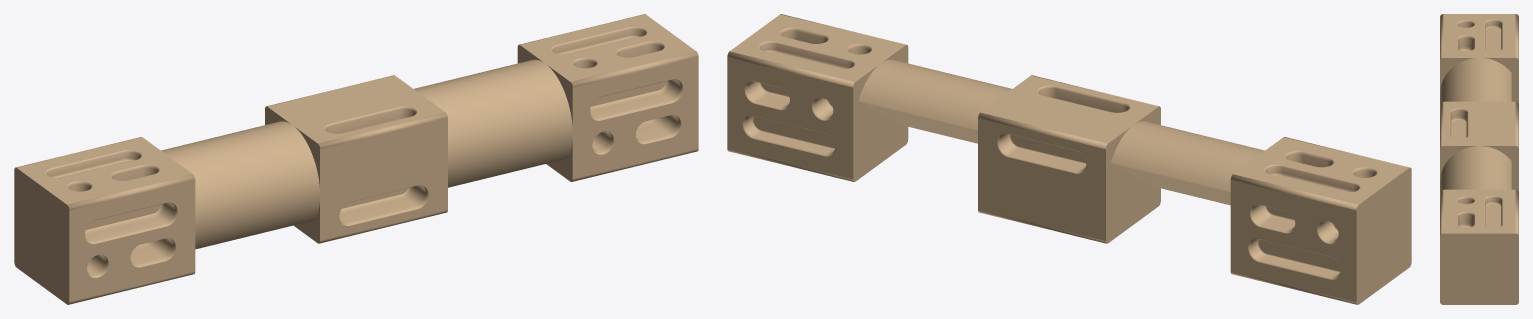
The model's file is owl-climb-poker.glb.
The picture shows the model from 3 angles, left to right: view 1: azimuth 30°, elevation 25°; view 2: azimuth 150°, elevation 25°; view 3: azimuth 270°, elevation 25°; orthographic projection. The views are drawn at different scales.
Visible parts, largest first — view 1: poker--face-0-body, poker--face-3-body, pk-L-half-round, pk-R-half-round, poker--end, poker--corner-round, poker--shoulder, pk-face-0-central, pk-face-0-L-edge, pk-face-0-R-edge, pk-face-0-R-duo, pk-face-0-L-duo; view 2: poker--face-2-body, poker--face-3-body, poker--shoulder, pk-L-half-round, pk-R-half-round, poker--end, poker--corner-round, pk-L-sloper-35, pk-R-sloper-35, pk-face-3-central, pk-face-3-R-edge, pk-face-3-L-edge (+2 smaller); view 3: poker--face-3-body, poker--end, pk-L-half-round, pk-R-half-round, poker--shoulder, poker--corner-round, pk-face-3-central, pk-face-3-R-edge, pk-face-3-L-edge, pk-face-3-L-duo, pk-face-3-R-duo.
Part boxes in pixels (x1,y1,x2,y2): poker--face-0-body: [69, 57, 698, 302]; poker--face-3-body: [17, 14, 695, 204]; pk-L-half-round: [161, 121, 319, 249]; pk-R-half-round: [414, 59, 572, 187]; poker--end: [14, 167, 69, 304]; poker--corner-round: [16, 14, 698, 304]; poker--shoulder: [265, 44, 572, 243]; pk-face-0-central: [339, 186, 428, 225]; pk-face-0-L-edge: [84, 203, 177, 244]; pk-face-0-R-edge: [590, 80, 683, 120]; pk-face-0-R-duo: [635, 116, 681, 144]; pk-face-0-L-duo: [130, 239, 175, 267]; poker--face-2-body: [727, 57, 1356, 302]; poker--face-3-body: [730, 14, 1408, 204]; poker--shoulder: [853, 44, 1160, 243]; pk-L-half-round: [1111, 121, 1264, 191]; pk-R-half-round: [858, 59, 1011, 130]; poker--end: [1356, 167, 1411, 304]; poker--corner-round: [727, 14, 1409, 304]; pk-L-sloper-35: [1111, 163, 1230, 205]; pk-R-sloper-35: [859, 101, 977, 143]; pk-face-3-central: [1039, 85, 1130, 112]; pk-face-3-R-edge: [760, 41, 855, 69]; pk-face-3-L-edge: [1266, 164, 1360, 192]; poker--face-3-body: [1443, 14, 1515, 233]; poker--end: [1440, 233, 1518, 304]; pk-L-half-round: [1440, 58, 1511, 103]; pk-R-half-round: [1440, 146, 1511, 191]; poker--shoulder: [1440, 58, 1518, 191]; poker--corner-round: [1440, 14, 1518, 235]; pk-face-3-central: [1449, 108, 1458, 137]; pk-face-3-R-edge: [1484, 195, 1493, 226]; pk-face-3-L-edge: [1484, 19, 1493, 50]; pk-face-3-L-duo: [1457, 35, 1465, 50]; pk-face-3-R-duo: [1457, 211, 1465, 227].
Bounding box in the file's own units: 0.66 × 0.1 × 0.1.
